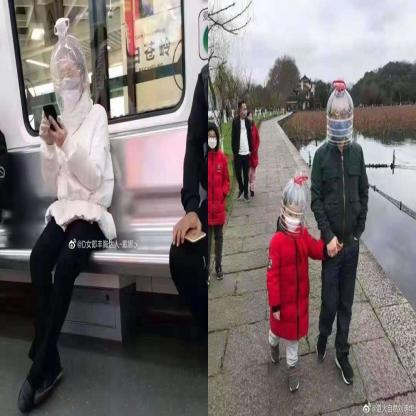Wearing_Mask: (57, 64, 82, 112), (329, 104, 350, 141), (284, 206, 301, 232), (207, 130, 217, 149), (241, 105, 247, 117), (248, 114, 252, 123)
